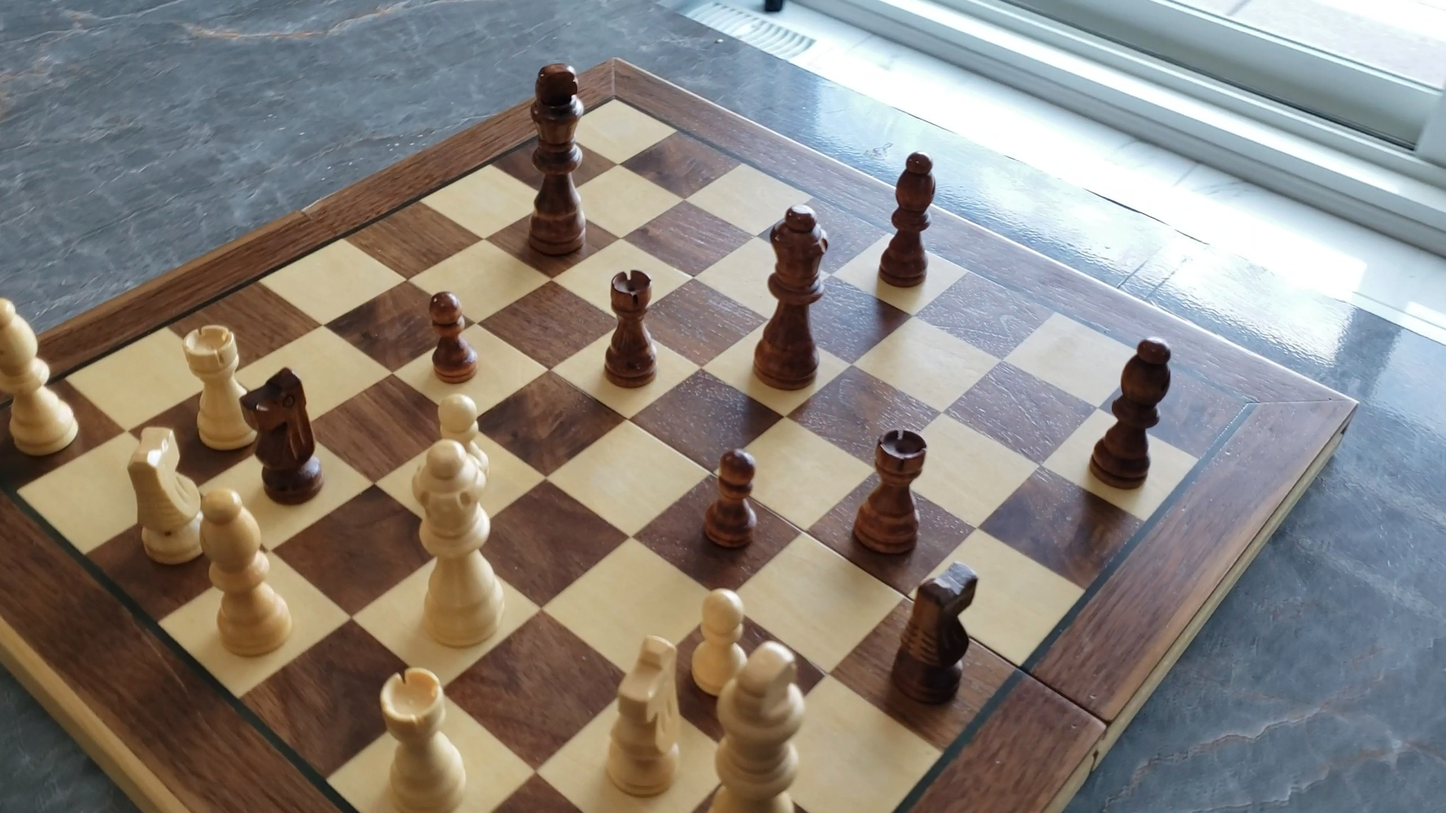black-bishop: (1088, 331, 1177, 486), (879, 145, 937, 285)
black-king: (523, 56, 590, 258)
black-knight: (887, 560, 983, 707), (239, 365, 325, 504)
black-pawn: (700, 443, 761, 552), (425, 287, 479, 386)
black-queen: (752, 202, 830, 391)
black-rook: (851, 426, 929, 557), (602, 266, 658, 388)
white-bishop: (194, 486, 298, 661), (0, 293, 81, 460)
white-king: (708, 637, 813, 812)
white-knight: (598, 631, 689, 800), (121, 425, 210, 569)
white-pawn: (686, 583, 752, 702)
white-queen: (406, 436, 510, 654)
white-rook: (374, 663, 472, 812), (178, 321, 258, 454)
